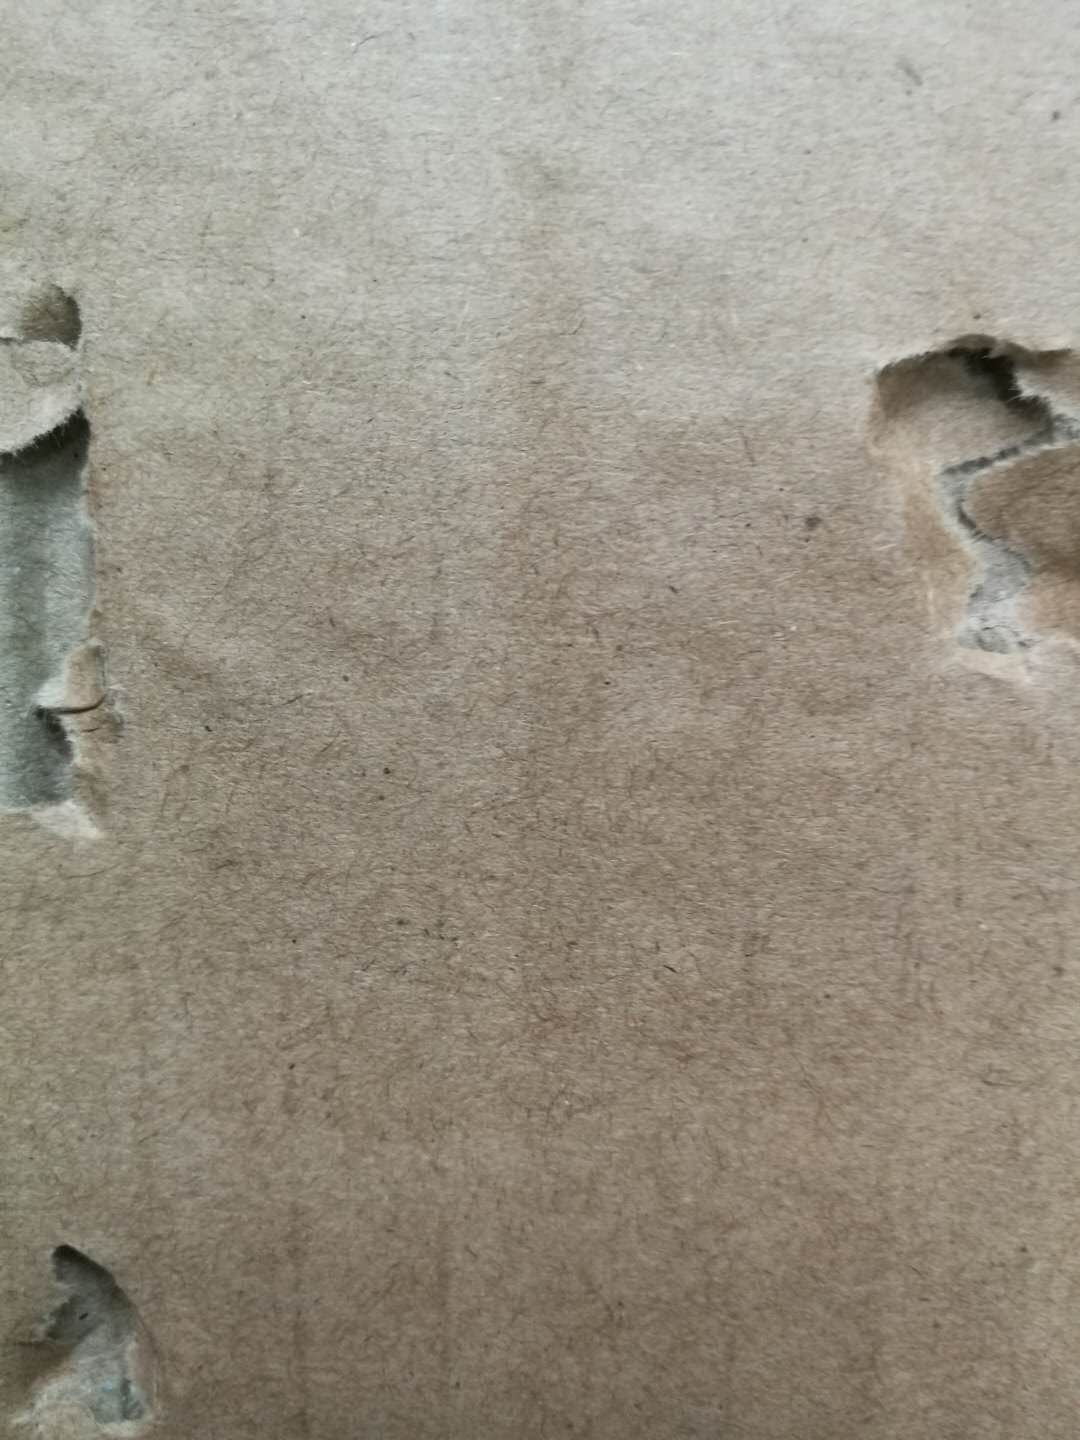defect: (817, 276, 1080, 728), (1, 247, 183, 896), (1, 1204, 216, 1439)
